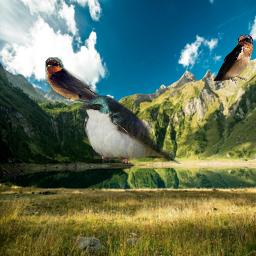Swallow: (79, 94, 182, 164), (45, 57, 121, 111), (213, 34, 253, 86)
